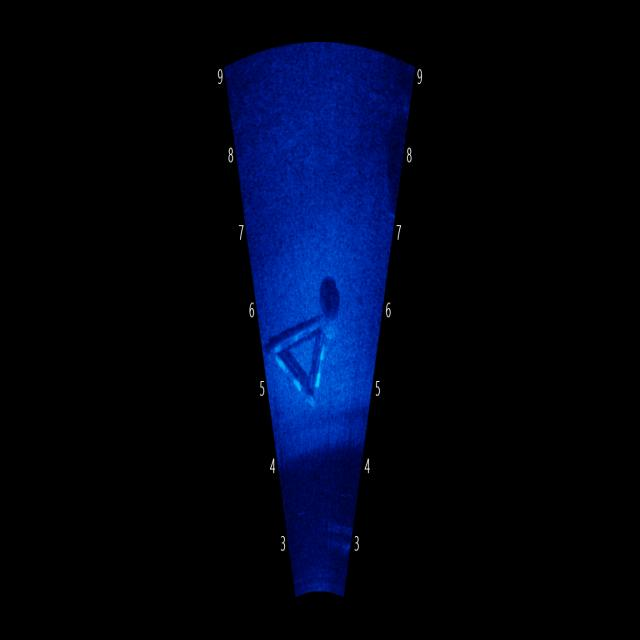triangle: (265, 304, 341, 413)
